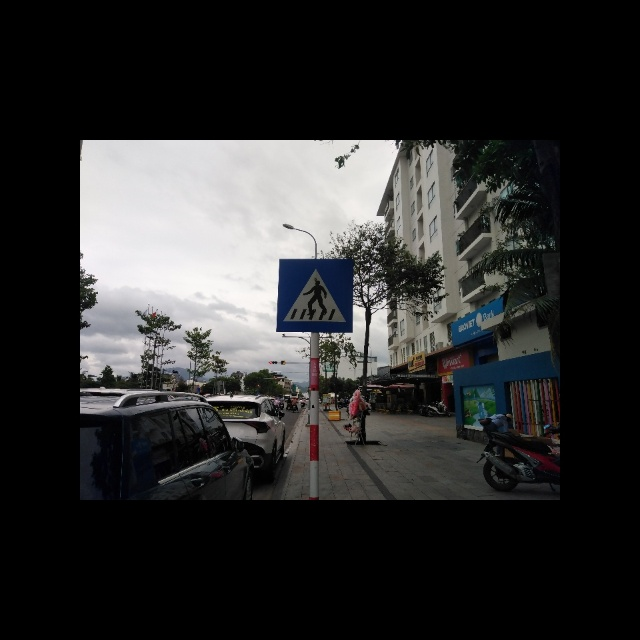Đường dành cho người đi bộ: (276, 258, 357, 336)
